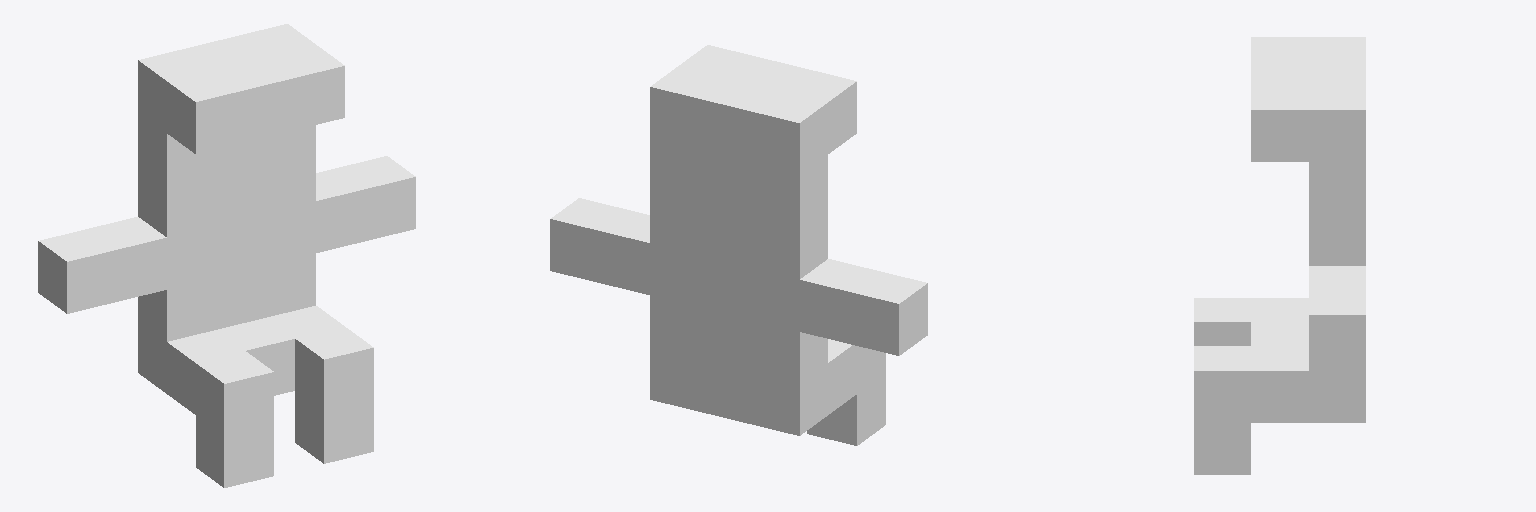
Rendered from toy-store-11-toy2.obj.
The picture shows the model from 3 angles: view 1: azimuth 30°, elevation 25°; view 2: azimuth 150°, elevation 25°; view 3: azimuth 270°, elevation 25°; orthographic projection.
Parts seen in each view (by area): view 1: toy2; view 2: toy2; view 3: toy2.
Boxes of the visible parts, <box> form: toy2: <box>38,24,415,487</box>; toy2: <box>550,45,927,445</box>; toy2: <box>1194,37,1365,474</box>.
Size of the model in its own units: 0.7 by 0.7 by 0.3.